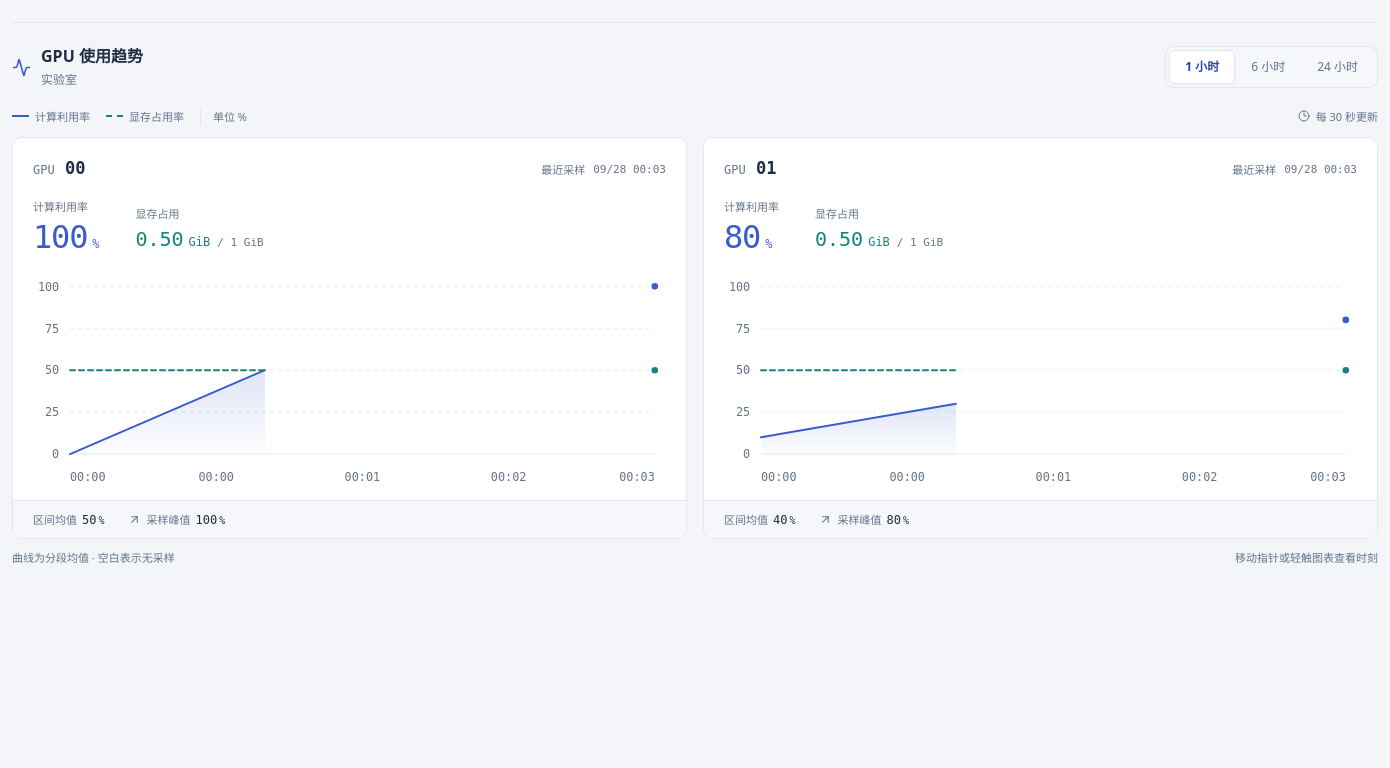
keyboard inspection synchronizes GPUs and does not turn missing samples into zero
The image size is (1390, 768).
Focus the slider named "GPU 0 历史采样时间" at (350, 379), box [27,267,672,491]
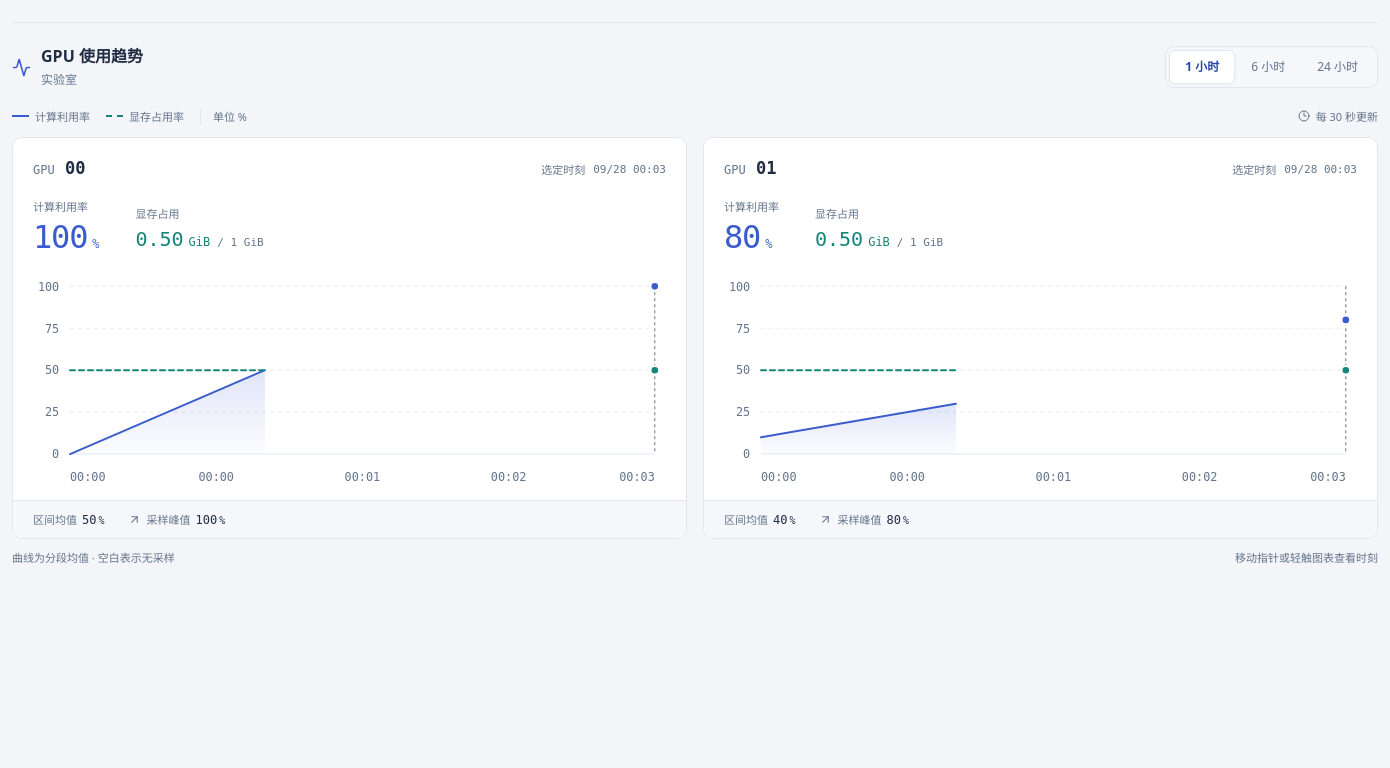
Press Home in the slider named "GPU 0 历史采样时间", box [27,267,672,491]
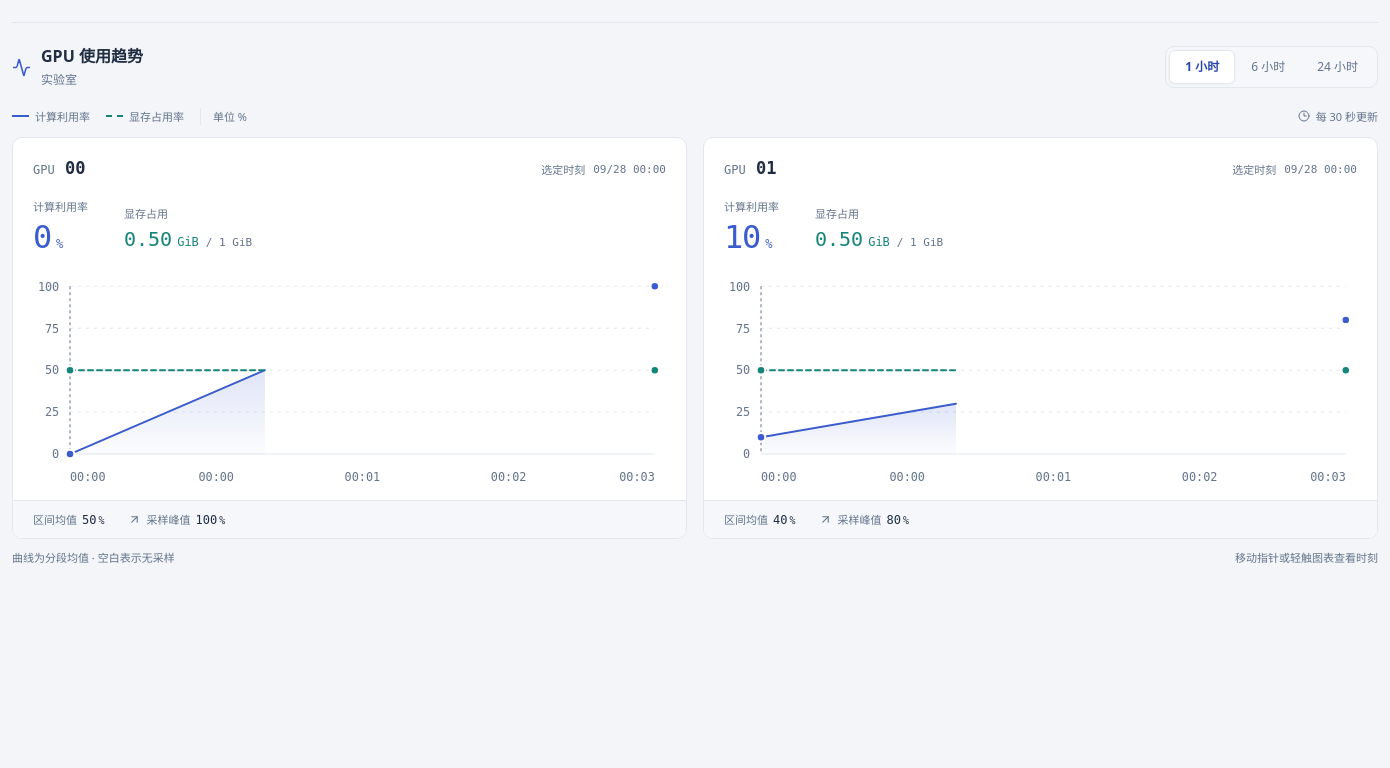
Result: the slider named "GPU 1 历史采样时间" has attribute aria-valuenow="0" at [718,267,1363,491]
Press ArrowRight in the slider named "GPU 0 历史采样时间", box [27,267,672,491]
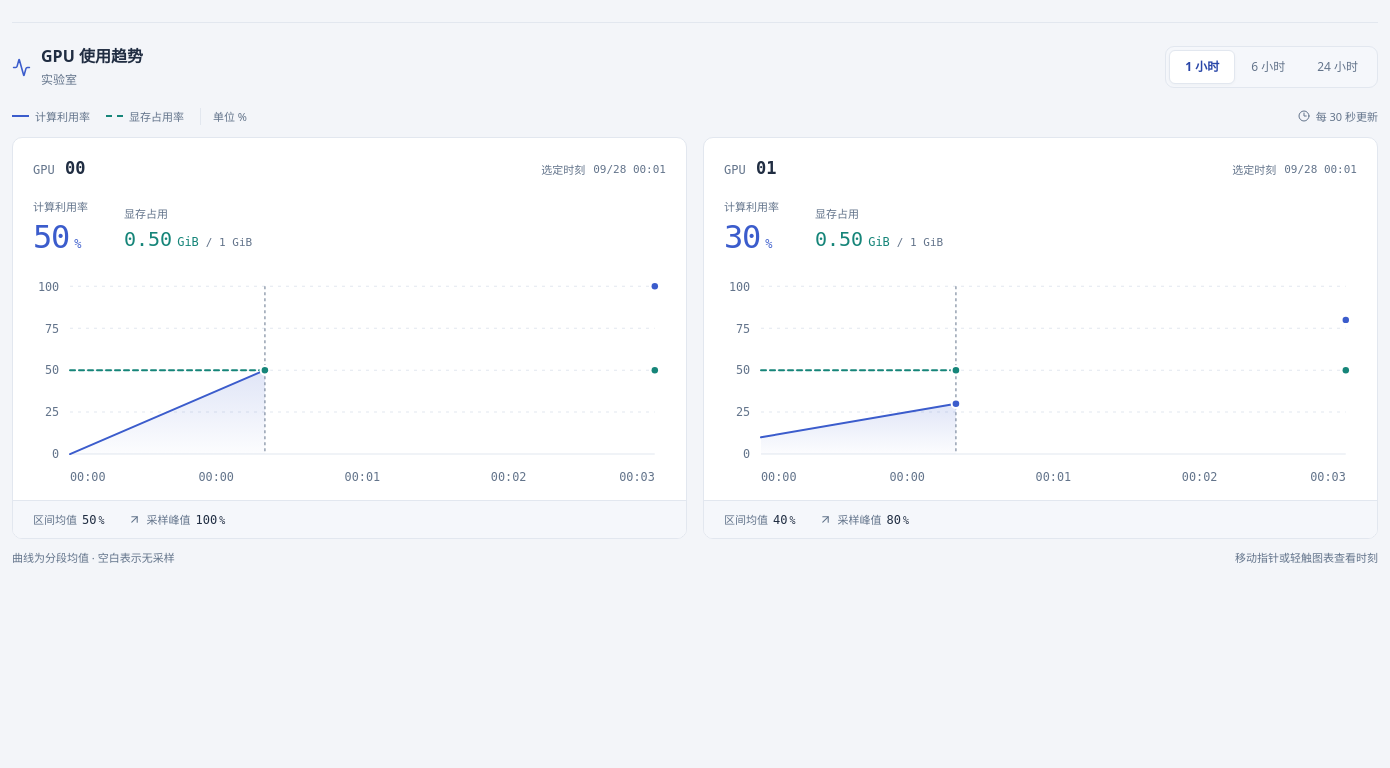
Press ArrowRight in the slider named "GPU 0 历史采样时间", box [27,267,672,491]
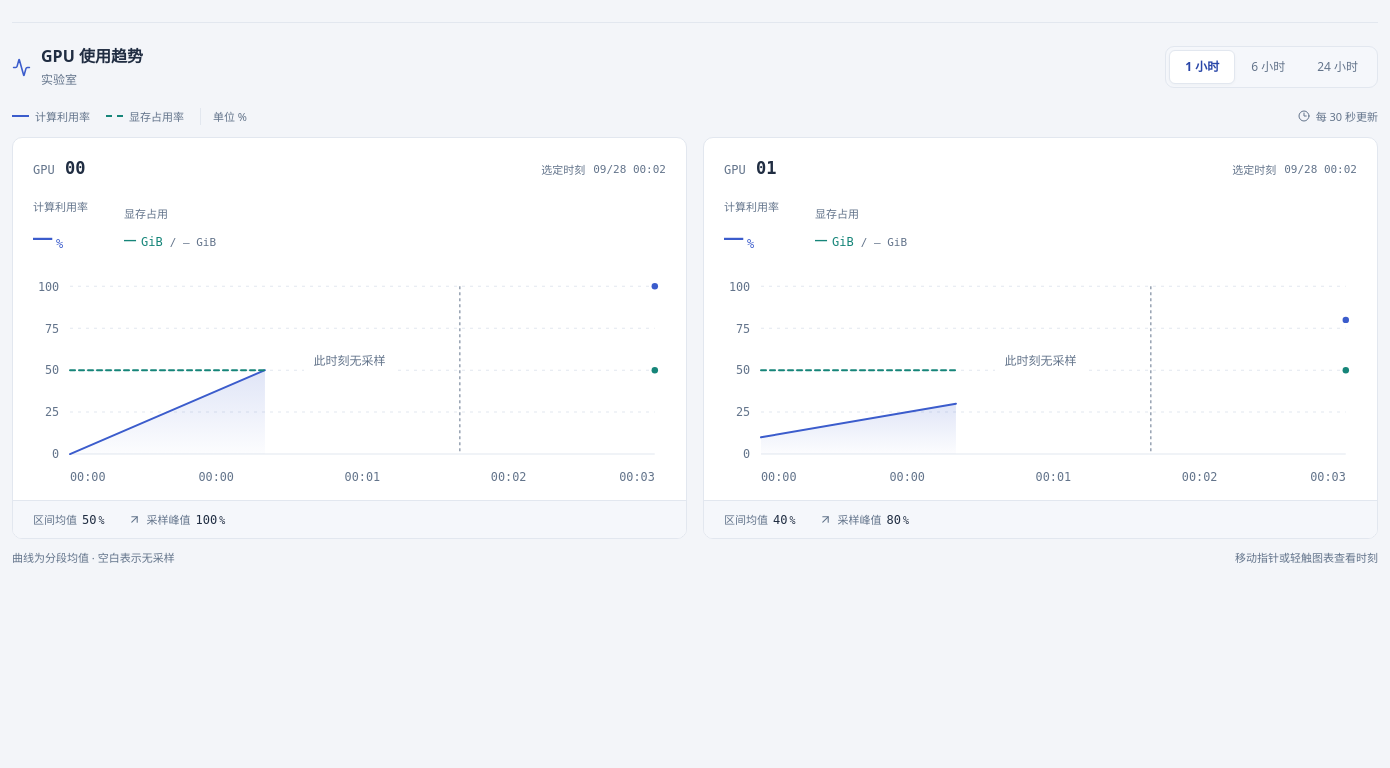
Result: the text "此时刻无采样" is shown 2 times at [304,348,396,375]; [994,348,1086,375]
Press Escape in the slider named "GPU 0 历史采样时间", box [27,267,672,491]
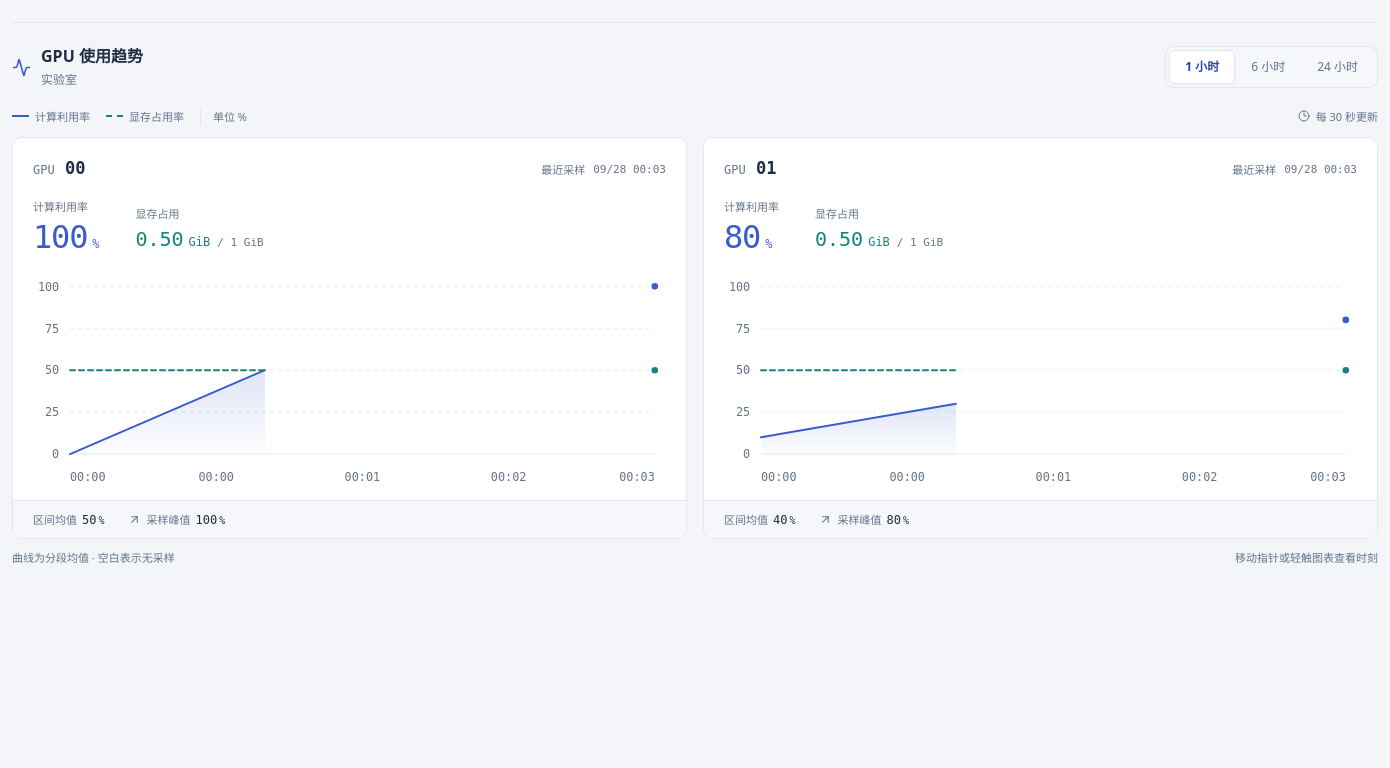
Result: the text "此时刻无采样" is gone
